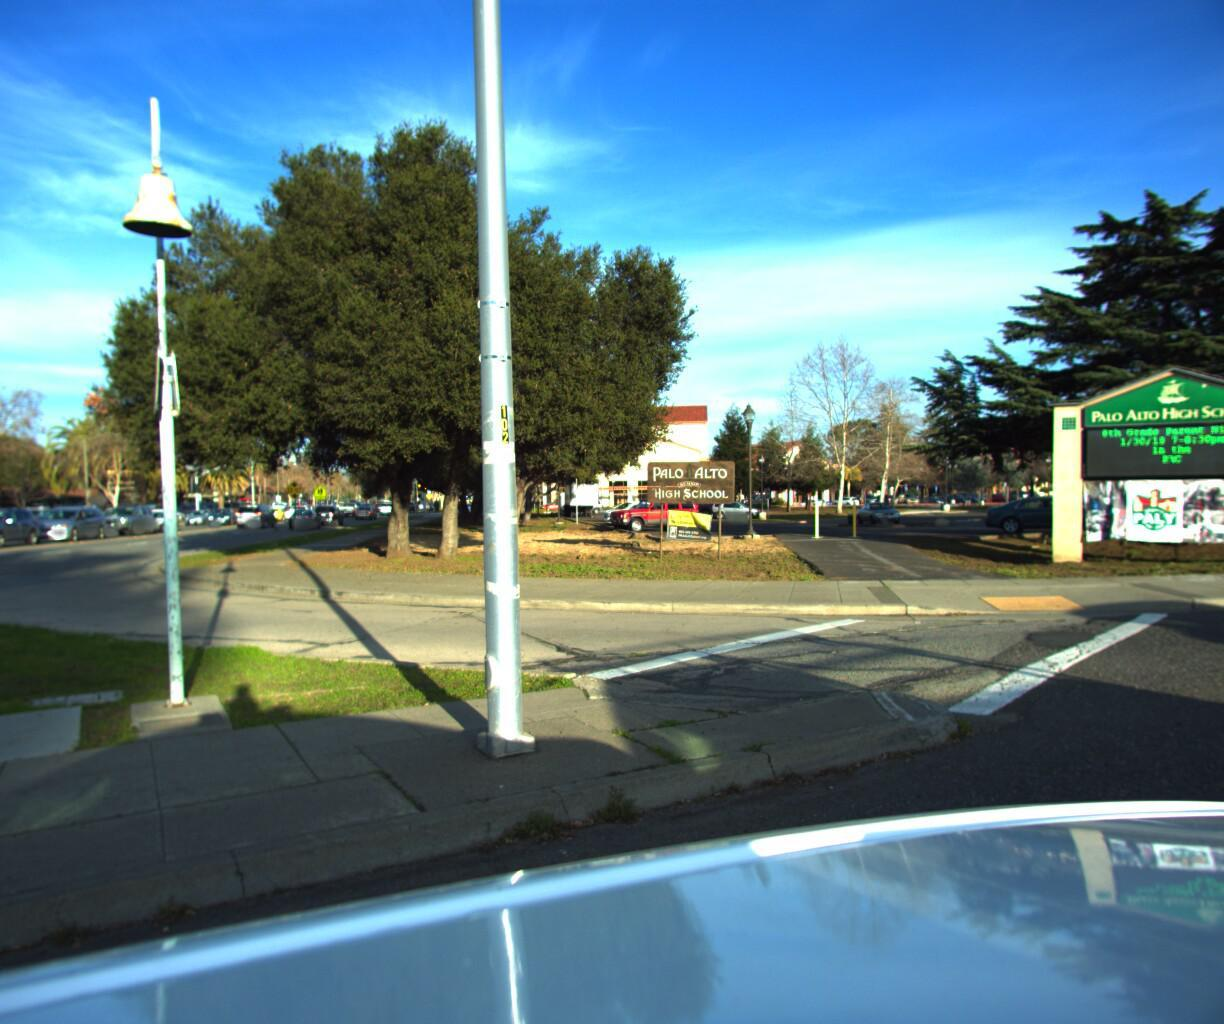car: (22, 503, 120, 546), (90, 499, 166, 541), (131, 504, 184, 533), (286, 501, 329, 531), (236, 500, 281, 529), (313, 500, 352, 527), (283, 496, 322, 520), (259, 502, 293, 525)
